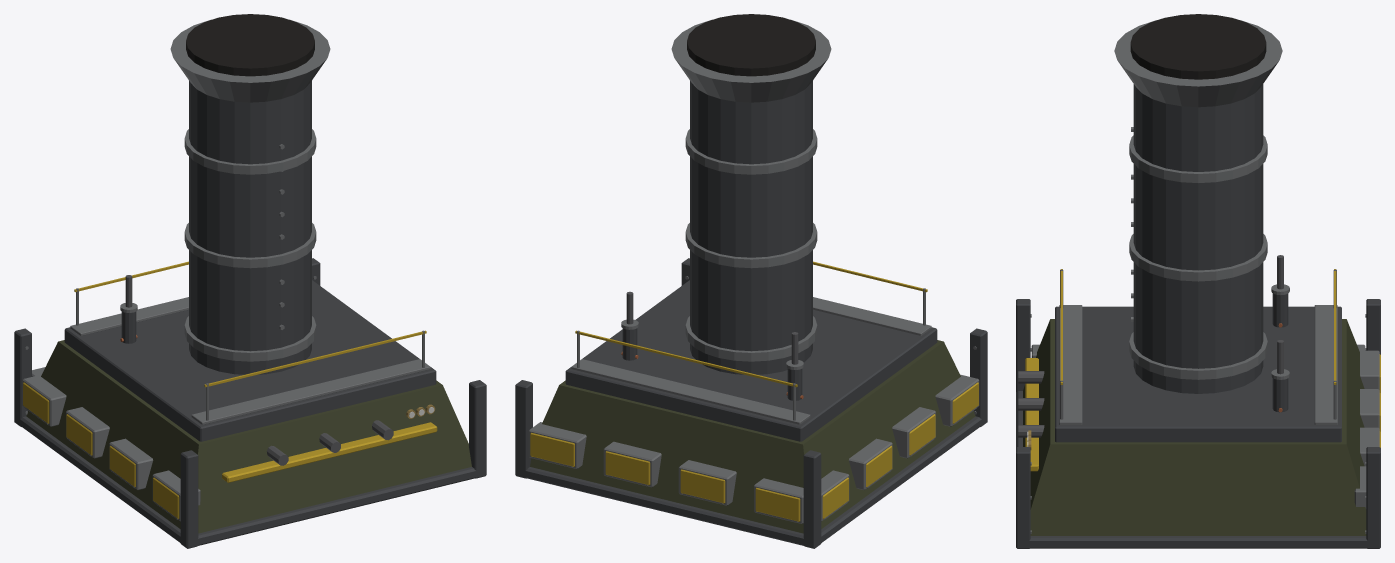
File: silo_mk1.glb
The picture shows the model from 3 angles, left to right: view 1: azimuth 30°, elevation 25°; view 2: azimuth 150°, elevation 25°; view 3: azimuth 270°, elevation 25°; orthographic projection. The views are drawn at different scales.
Visible parts, largest first — view 1: silo_mk1_CastIron, silo_mk1_OliveDrab, silo_mk1_WeldedSteel, silo_mk1_Soot, silo_mk1_HazardYellow, silo_mk1_OiledSteel; view 2: silo_mk1_CastIron, silo_mk1_OliveDrab, silo_mk1_WeldedSteel, silo_mk1_HazardYellow, silo_mk1_Soot; view 3: silo_mk1_CastIron, silo_mk1_OliveDrab, silo_mk1_WeldedSteel, silo_mk1_Soot, silo_mk1_HazardYellow, silo_mk1_OiledSteel.
Part boxes in pixels (x1,y1,x2,y2): silo_mk1_CastIron: [14, 81, 486, 548]; silo_mk1_OliveDrab: [26, 340, 471, 533]; silo_mk1_WeldedSteel: [22, 20, 430, 521]; silo_mk1_Soot: [186, 14, 314, 76]; silo_mk1_HazardYellow: [23, 261, 437, 519]; silo_mk1_OiledSteel: [125, 275, 393, 465]; silo_mk1_CastIron: [515, 81, 987, 548]; silo_mk1_OliveDrab: [530, 340, 975, 533]; silo_mk1_WeldedSteel: [528, 20, 979, 523]; silo_mk1_HazardYellow: [530, 261, 978, 521]; silo_mk1_Soot: [687, 14, 815, 76]; silo_mk1_CastIron: [1016, 84, 1380, 548]; silo_mk1_OliveDrab: [1023, 319, 1366, 535]; silo_mk1_WeldedSteel: [1030, 20, 1379, 533]; silo_mk1_Soot: [1130, 14, 1266, 79]; silo_mk1_HazardYellow: [1025, 269, 1380, 471]; silo_mk1_OiledSteel: [1018, 255, 1283, 437].
Bounding box in the file's own units: 8 × 10.4 × 8.
